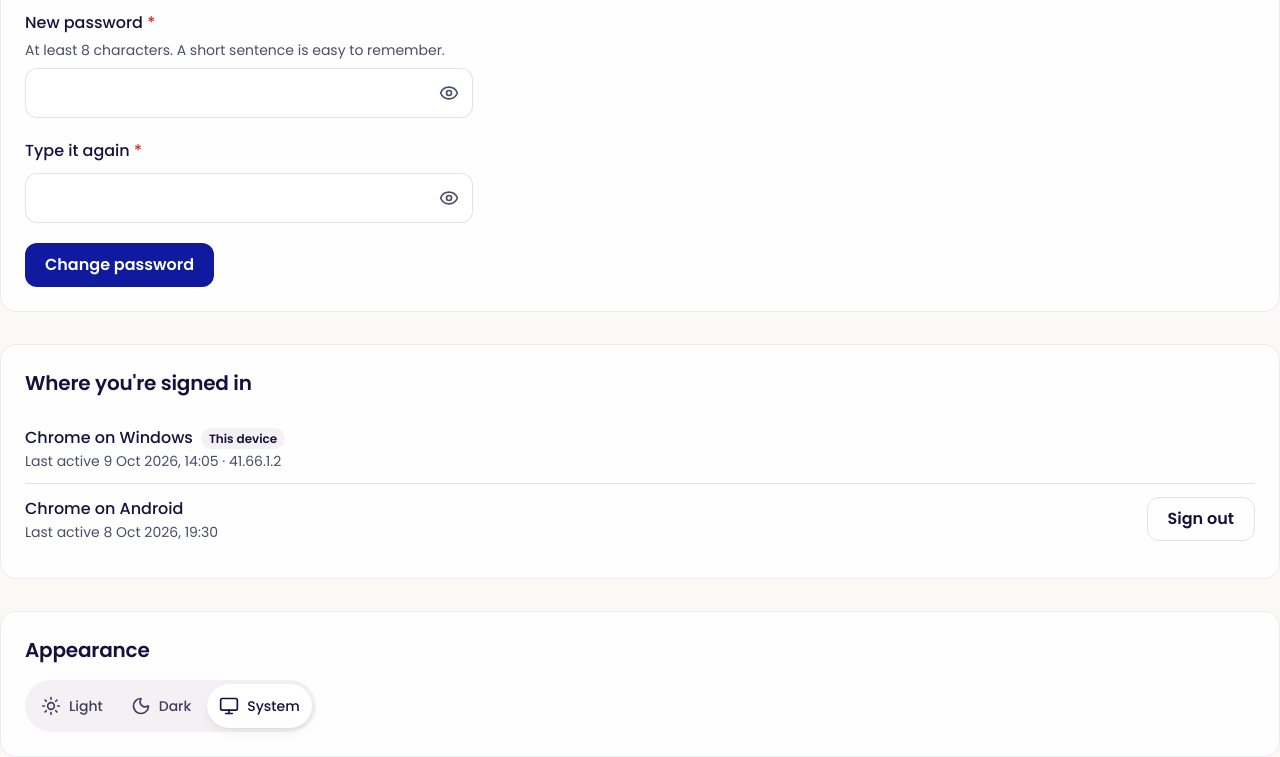
Test: Account page › lists signed-in devices and signs out another one
(page scrolled)
Expected: the text "This device" is shown, [201,428,285,449]
Click the button with aria-label "Sign out Chrome on Android" at (1201, 519), box [1147,497,1255,541]
(page scrolled)
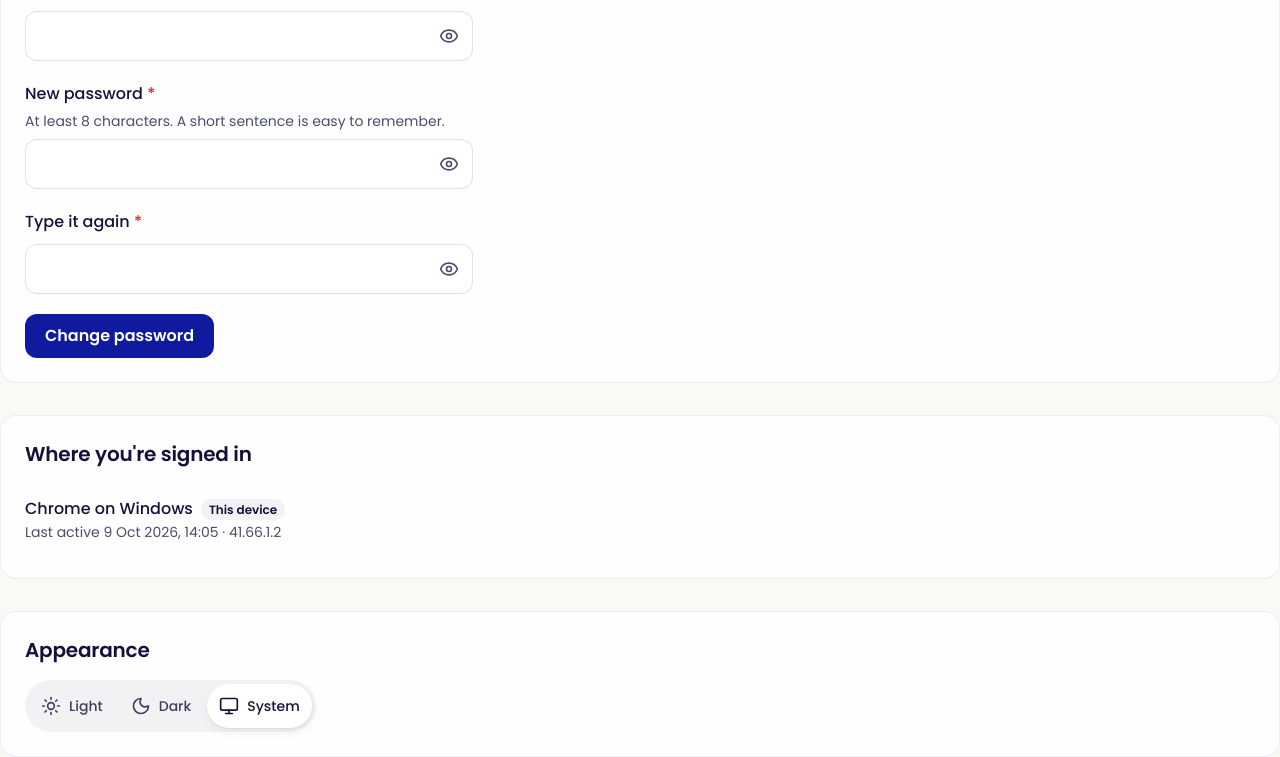
Result: the text "Chrome on Android" is gone
